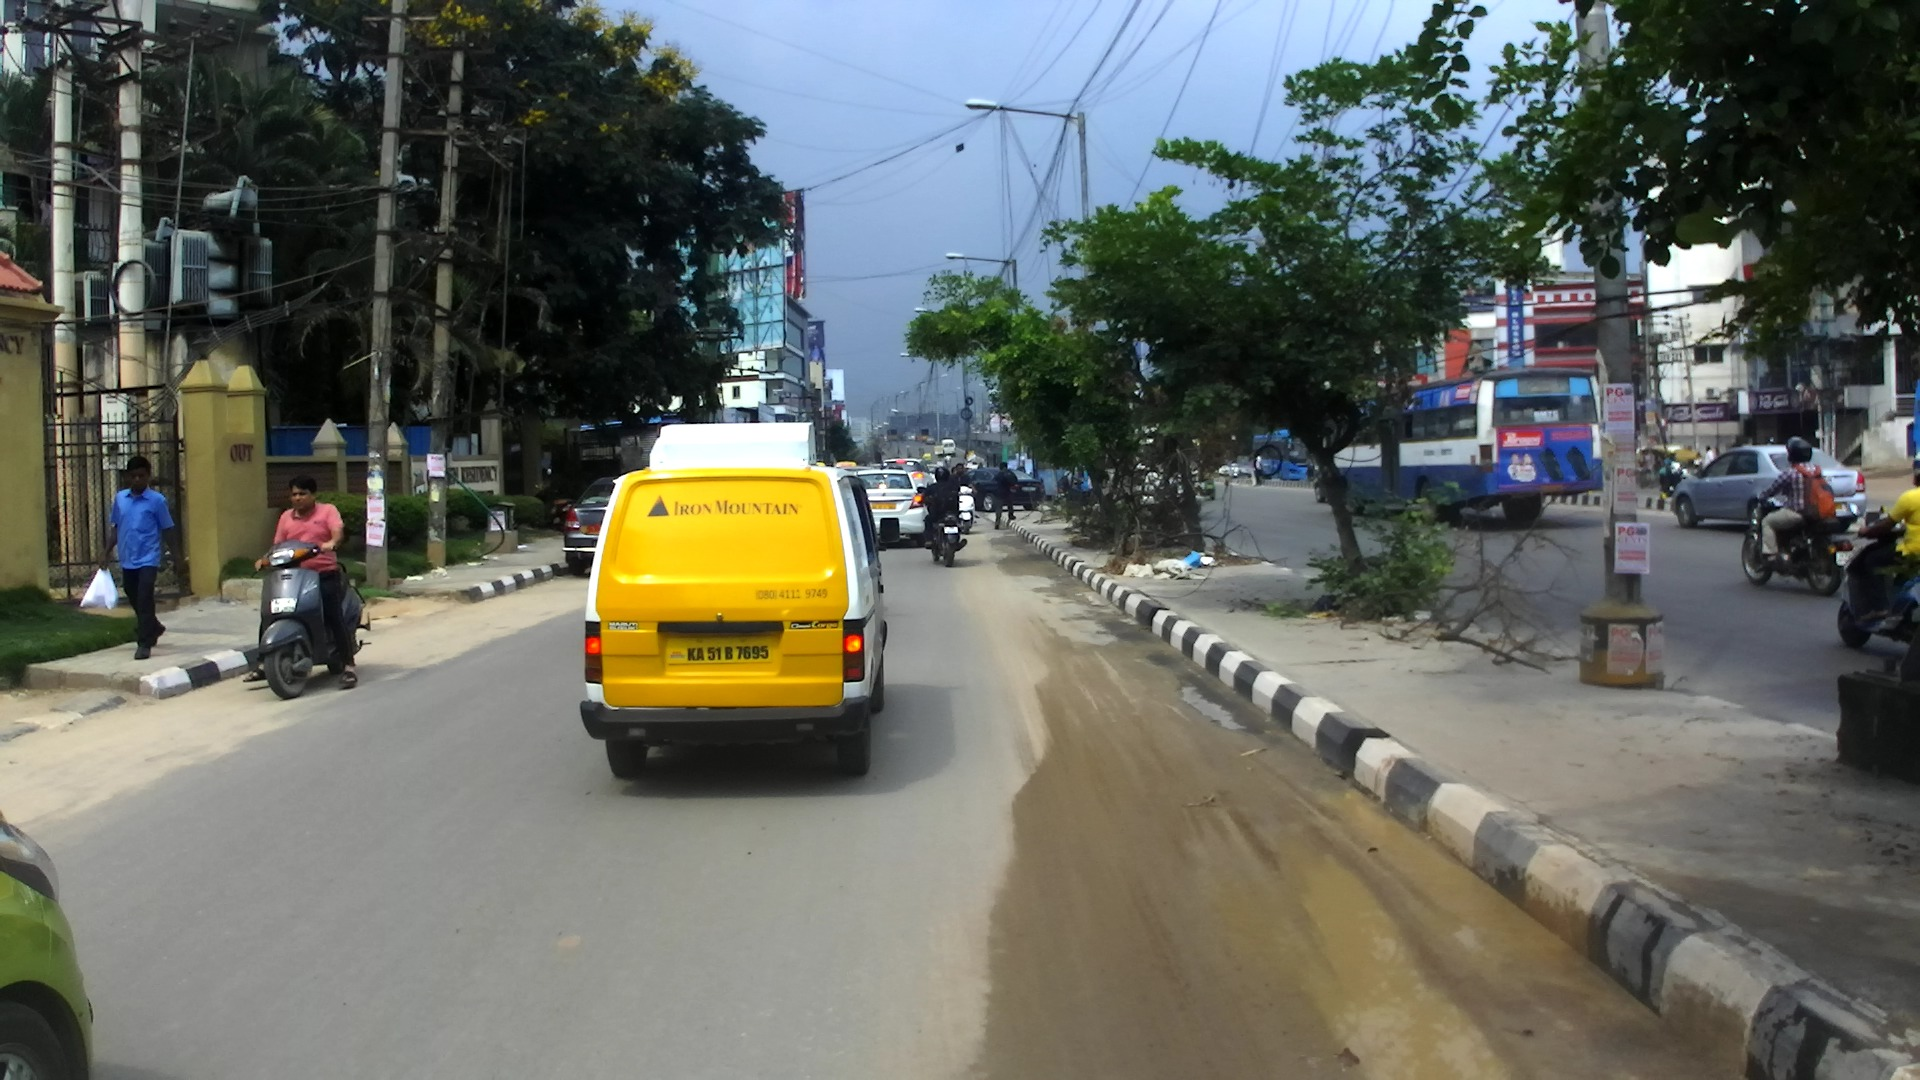autorickshaw: (835, 461, 858, 469), (886, 428, 899, 440), (922, 452, 932, 465), (816, 462, 826, 467)
bus: (1312, 365, 1604, 529), (1014, 434, 1101, 503), (1251, 427, 1314, 481), (986, 441, 1019, 470), (942, 439, 957, 457)
car: (580, 464, 902, 779), (1, 805, 93, 1080), (1670, 444, 1868, 533), (851, 468, 928, 547), (561, 478, 620, 577), (955, 466, 1045, 511), (880, 458, 934, 492), (1237, 454, 1254, 478), (926, 463, 942, 485), (844, 466, 872, 473), (1218, 463, 1231, 478), (965, 462, 984, 471), (936, 462, 950, 470), (870, 463, 883, 470), (906, 432, 917, 441), (927, 437, 936, 445)
motorcycle: (249, 538, 374, 701), (1835, 500, 1920, 649), (1741, 491, 1855, 597), (918, 487, 967, 568), (536, 466, 573, 531), (956, 484, 979, 534), (1662, 472, 1685, 499), (1230, 463, 1238, 478), (944, 460, 951, 468)
person: (97, 455, 189, 660), (991, 461, 1017, 530), (1058, 467, 1085, 508), (1248, 455, 1258, 488), (1702, 445, 1715, 471), (1255, 451, 1263, 486), (1306, 455, 1315, 481), (1192, 466, 1200, 480)
rider: (253, 473, 364, 690), (1755, 435, 1836, 571), (1857, 452, 1920, 623), (923, 466, 960, 548), (950, 463, 980, 519), (1658, 460, 1672, 490), (1668, 458, 1683, 482), (1764, 436, 1776, 446), (952, 466, 959, 478), (945, 454, 952, 463), (894, 465, 904, 470), (1232, 458, 1236, 463), (889, 466, 894, 469)
truck: (649, 423, 817, 470), (919, 429, 928, 443)
vehicle fallback: (1202, 481, 1216, 501)
